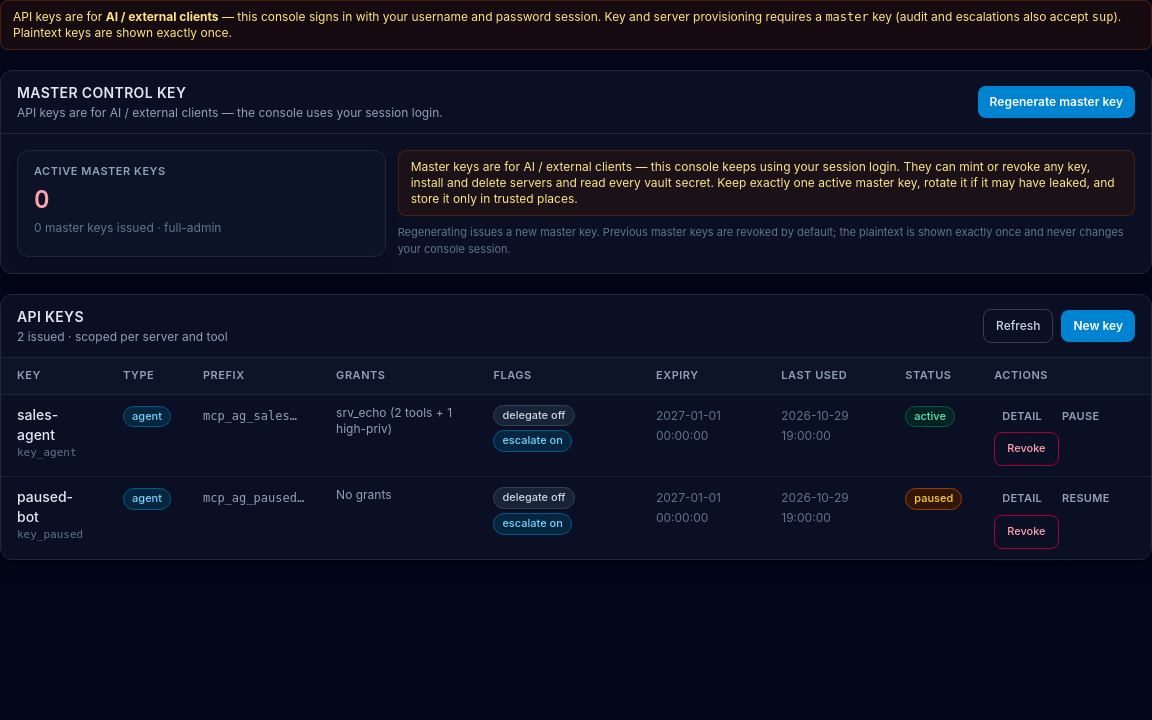
Test: Key detail drawer › pauses all access for the key from the Access tab
The width and height of the screenshot is (1152, 720).
Click the button "sales-agent".
click(54, 425)  # box [17,405,91,445]
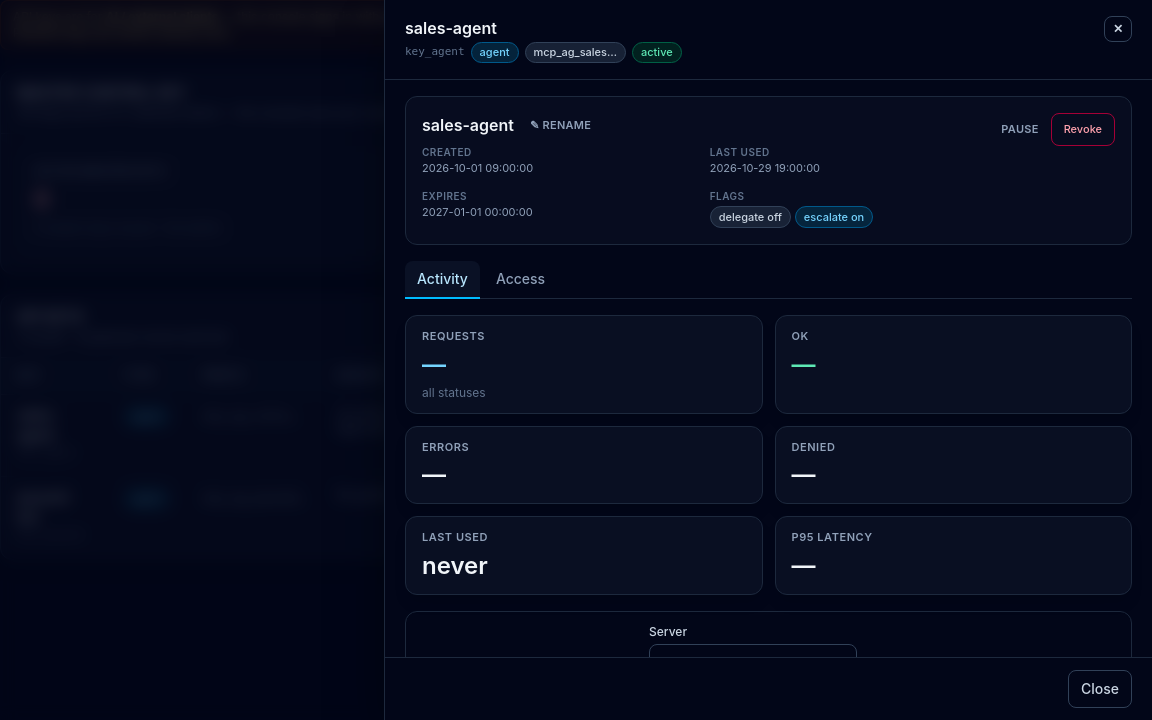
Result: the tab "Access" is shown
Click the tab "Access".
click(521, 280)  # box [484,261,557,299]
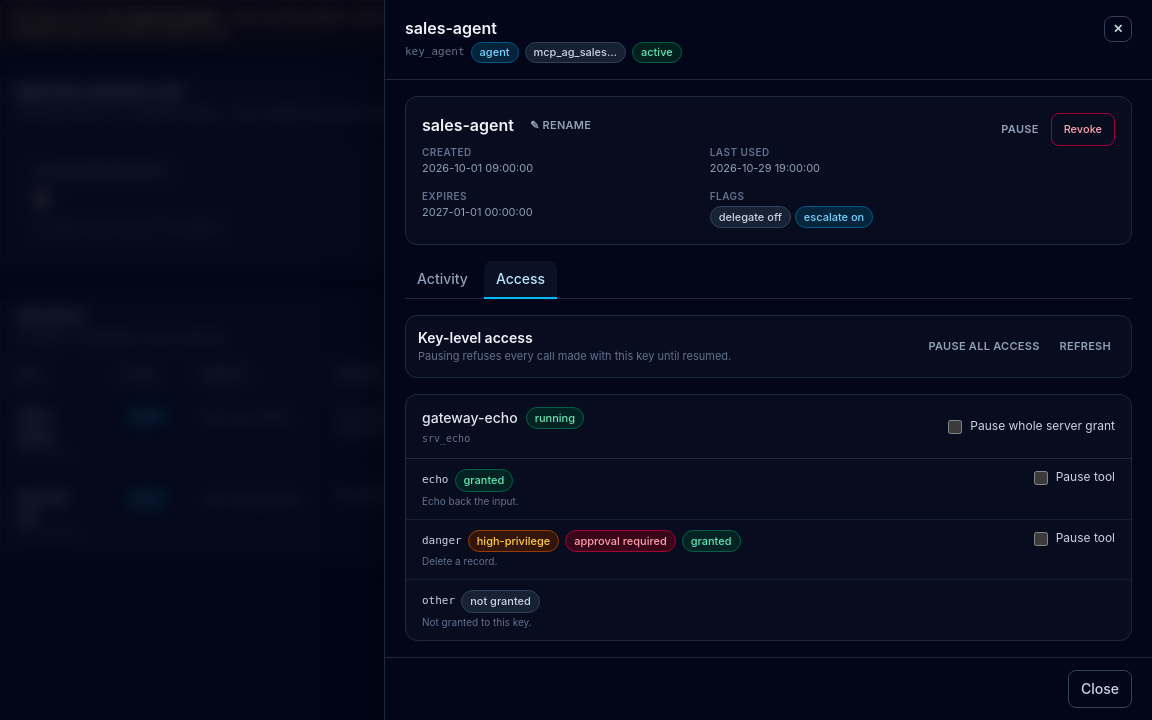
Result: the text "Key-level access" is shown at [418,329,533,346]
Result: the text "gateway-echo" is shown at [422,408,518,428]
Click the button "Pause all access".
click(984, 346)  # box [920,334,1048,359]
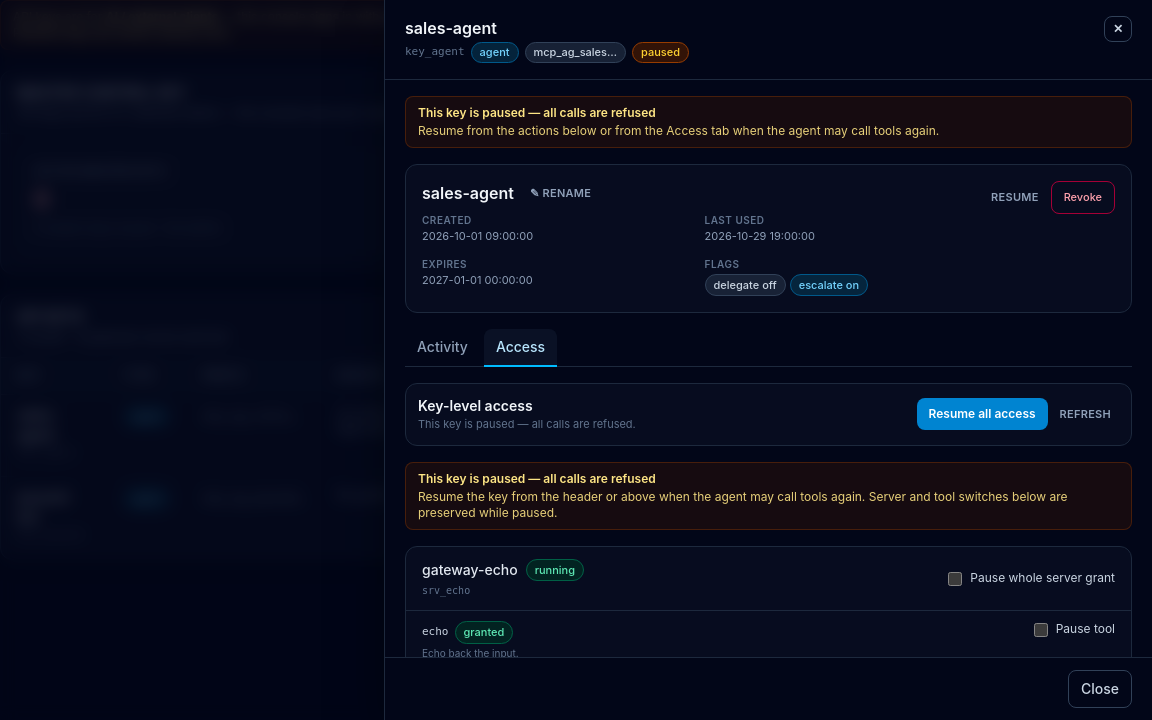
Result: the 1st text "This key is paused — all calls are refused" is shown at [418,105,656,120]
Result: the button "Resume all access" is shown at [917,398,1048,430]
